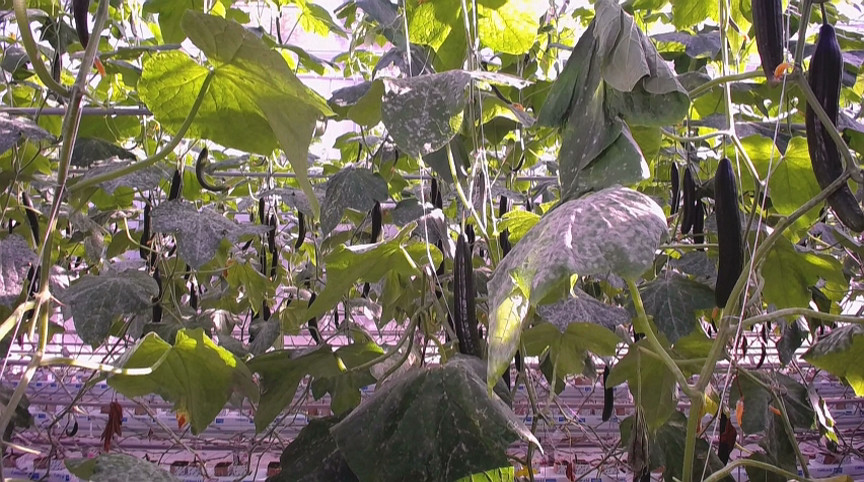cucumber: (806, 25, 864, 233), (712, 160, 740, 311), (454, 233, 482, 359), (749, 1, 786, 83), (683, 167, 695, 235), (602, 365, 614, 424), (670, 161, 683, 215)
